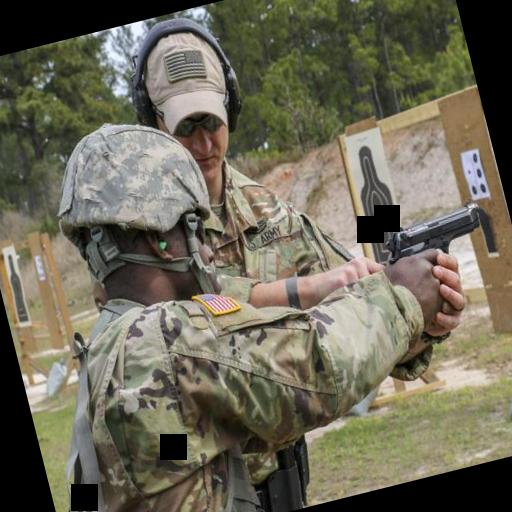Handgun: (378, 198, 490, 276)
